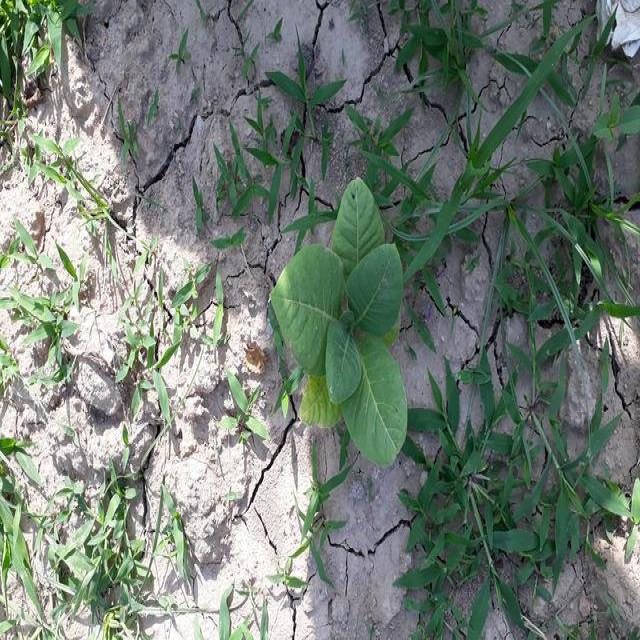crop: (274, 183, 412, 446)
